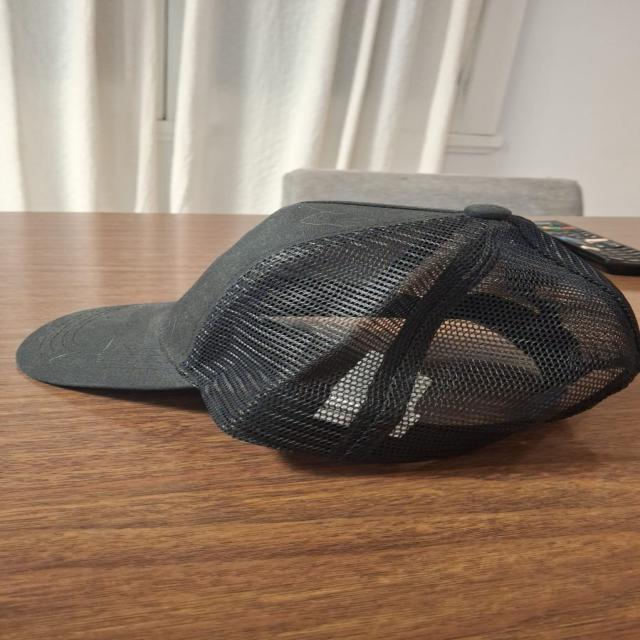Gorra: (11, 200, 639, 468)
